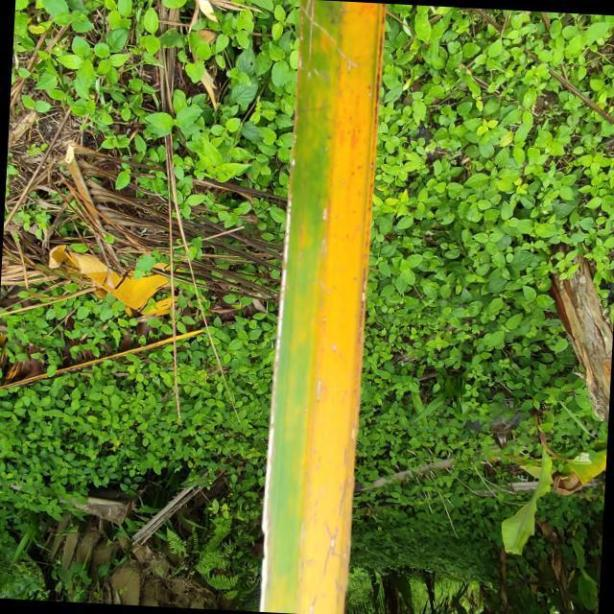Megnesium: (259, 5, 385, 614)
